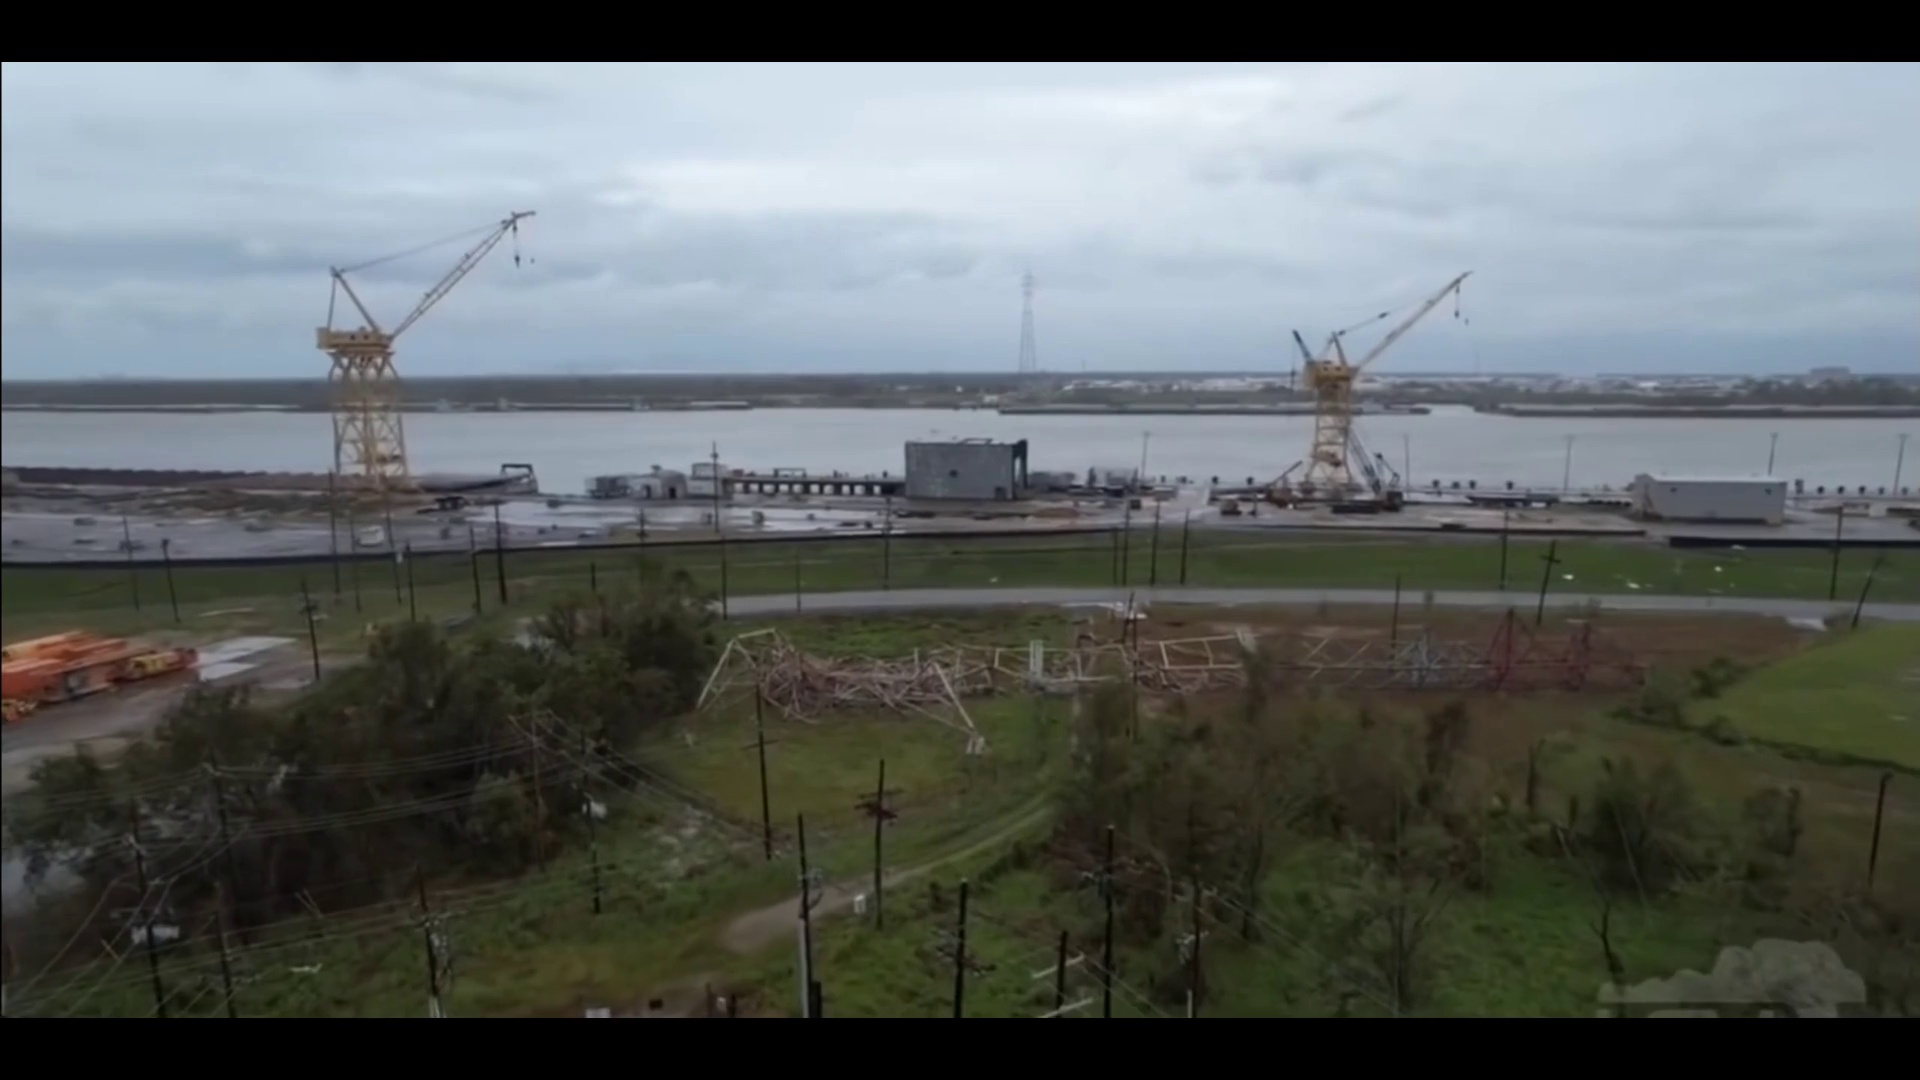tower_down: (698, 589, 1669, 737)
